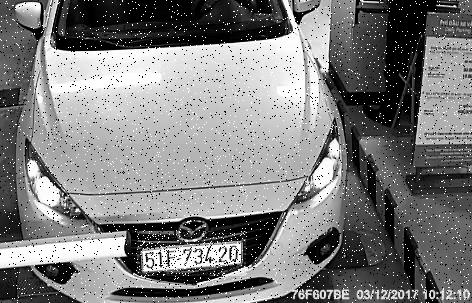License-plate: (139, 232, 249, 277)
